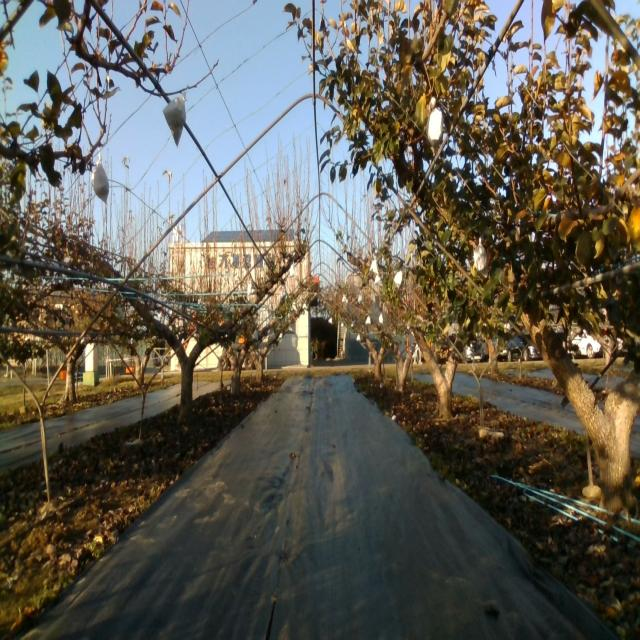pearbags: (161, 90, 186, 143), (92, 154, 108, 204), (427, 104, 444, 150), (474, 242, 488, 278)
